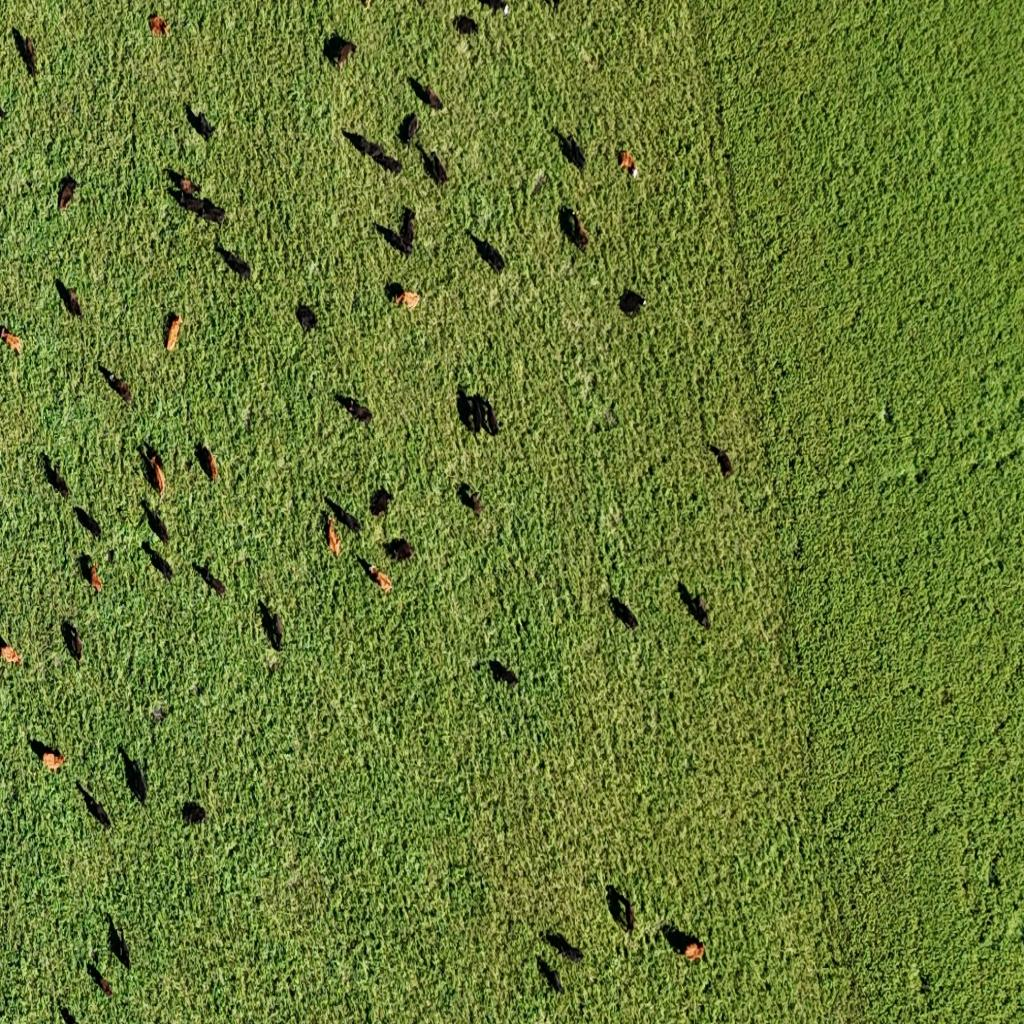cow: (400, 110, 448, 184), (169, 173, 224, 227), (344, 129, 404, 177), (530, 918, 592, 964), (674, 571, 722, 625), (452, 3, 516, 40), (380, 207, 418, 262), (102, 916, 131, 984), (459, 390, 499, 437), (118, 745, 148, 806), (76, 782, 112, 830), (662, 922, 705, 962), (470, 231, 508, 274), (554, 127, 588, 174), (606, 884, 635, 936), (142, 499, 171, 548), (30, 737, 68, 774), (216, 240, 251, 280), (358, 555, 392, 595), (99, 366, 133, 406), (560, 206, 589, 252), (42, 454, 70, 500), (144, 542, 174, 584), (410, 76, 444, 111), (609, 595, 640, 633), (55, 277, 83, 319), (260, 602, 284, 650), (186, 103, 217, 140), (196, 561, 226, 599), (325, 498, 358, 532), (15, 30, 37, 80), (144, 444, 165, 496), (326, 35, 356, 71), (61, 620, 83, 668), (337, 394, 372, 424), (537, 955, 563, 995), (75, 505, 102, 541), (87, 961, 113, 996), (459, 482, 485, 516), (80, 554, 102, 594), (710, 444, 735, 478), (390, 284, 421, 311), (0, 632, 23, 668), (197, 443, 218, 482), (58, 175, 79, 213), (490, 659, 518, 687), (619, 288, 647, 316), (166, 168, 195, 195), (385, 538, 415, 563), (617, 147, 639, 180), (295, 302, 318, 333), (164, 312, 182, 351), (327, 514, 343, 557), (182, 800, 206, 828), (1, 325, 23, 354), (400, 113, 418, 148), (370, 488, 391, 517), (148, 13, 171, 39), (454, 16, 478, 40), (530, 170, 546, 200), (59, 1004, 78, 1024), (150, 704, 169, 724), (190, 681, 206, 698)
